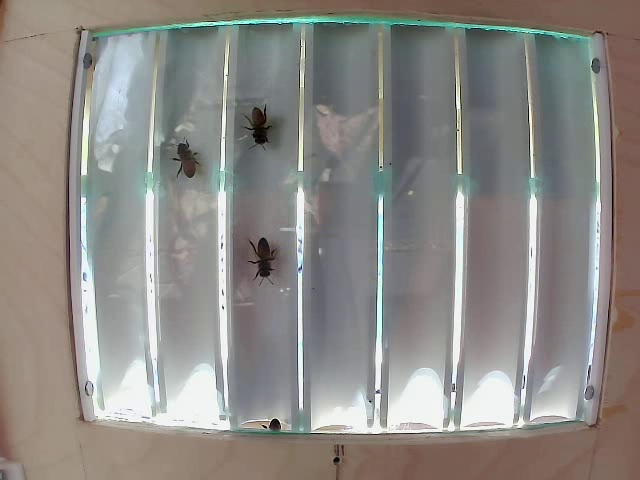bee: (162, 120, 216, 181), (245, 226, 280, 289), (254, 97, 275, 154)
